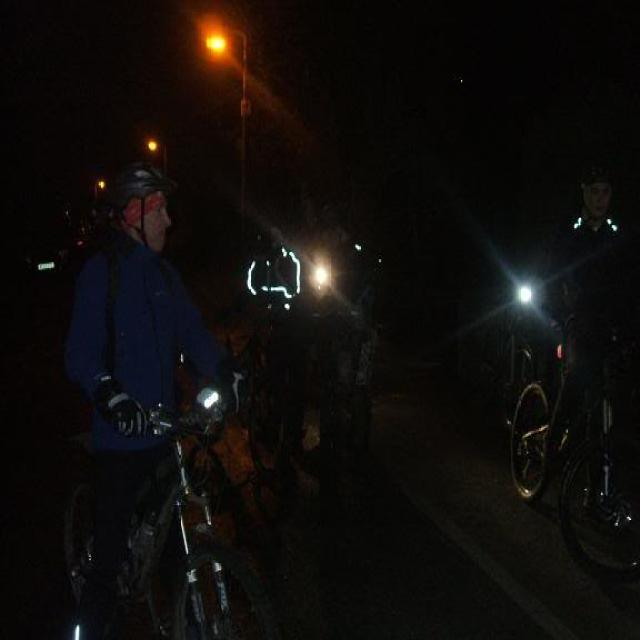Bicycle: (11, 469, 282, 640), (493, 348, 640, 577)
People: (88, 123, 195, 483), (556, 142, 640, 356), (258, 197, 305, 390)
